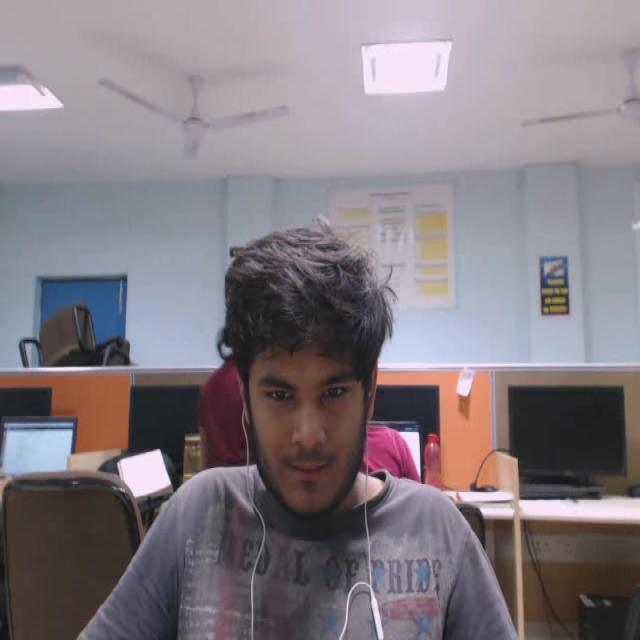Engaged: (205, 201, 414, 541)
